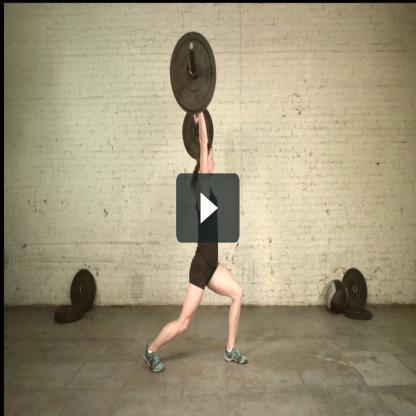barbell: (170, 30, 217, 160)
